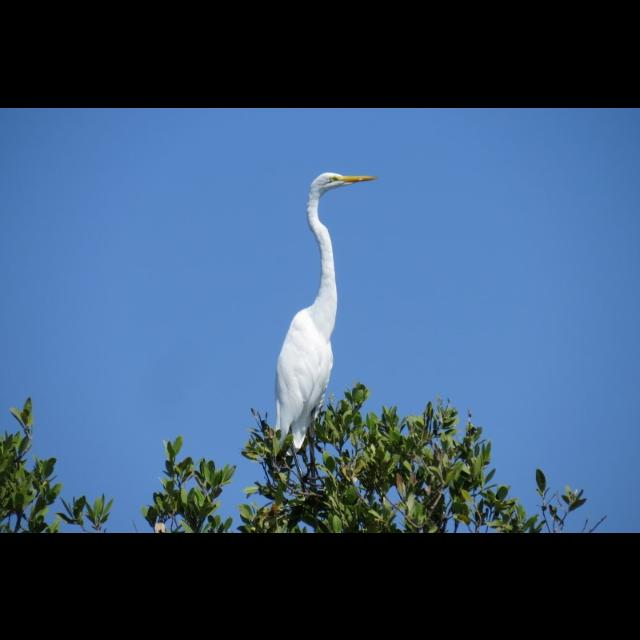egret: (270, 164, 380, 448)
